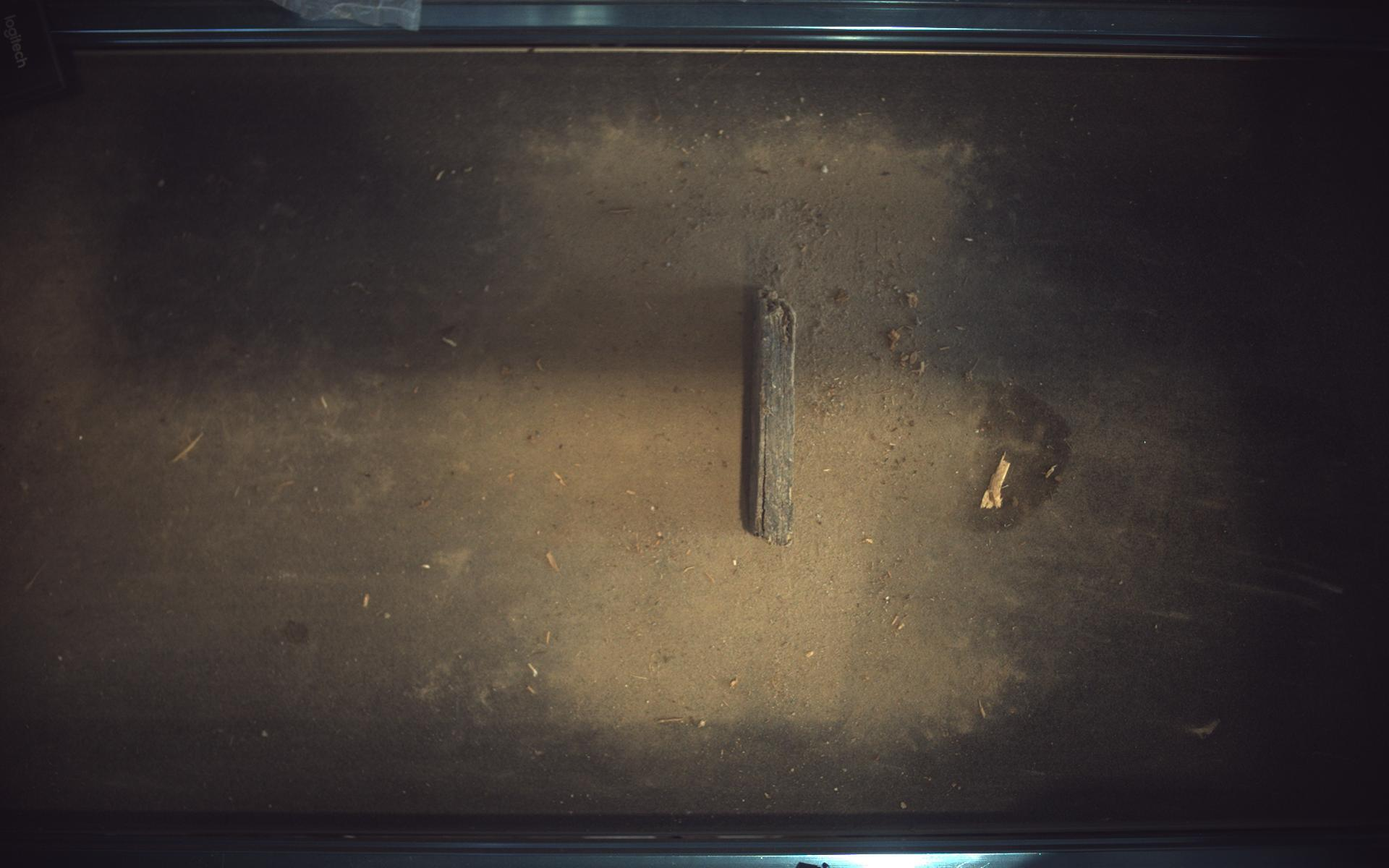wood: (744, 286, 797, 545)
